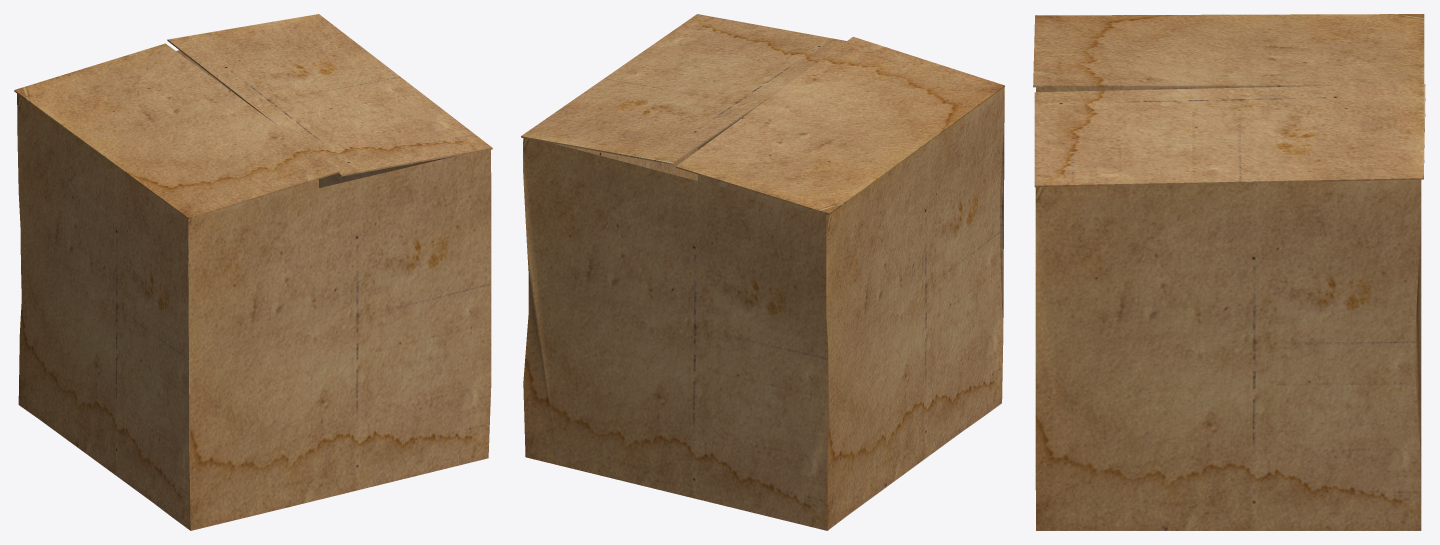
Rendered from Card_Board_Box.FBX.
3 renders of one model, left to right at view 1: azimuth 30°, elevation 25°; view 2: azimuth 150°, elevation 25°; view 3: azimuth 270°, elevation 25°, orthographic. The views are drawn at different scales.
Visible parts, largest first — view 1: Card_Board_Box:Box001; view 2: Card_Board_Box:Box001; view 3: Card_Board_Box:Box001.
Boxes of the visible parts, x1,y1,x2,y2 form: Card_Board_Box:Box001: (14,14,492,530); Card_Board_Box:Box001: (521,14,1004,530); Card_Board_Box:Box001: (1033,14,1425,530).
Bounding box in the file's own units: 19.81 × 20.36 × 19.76.
1 material, 1 textured.
